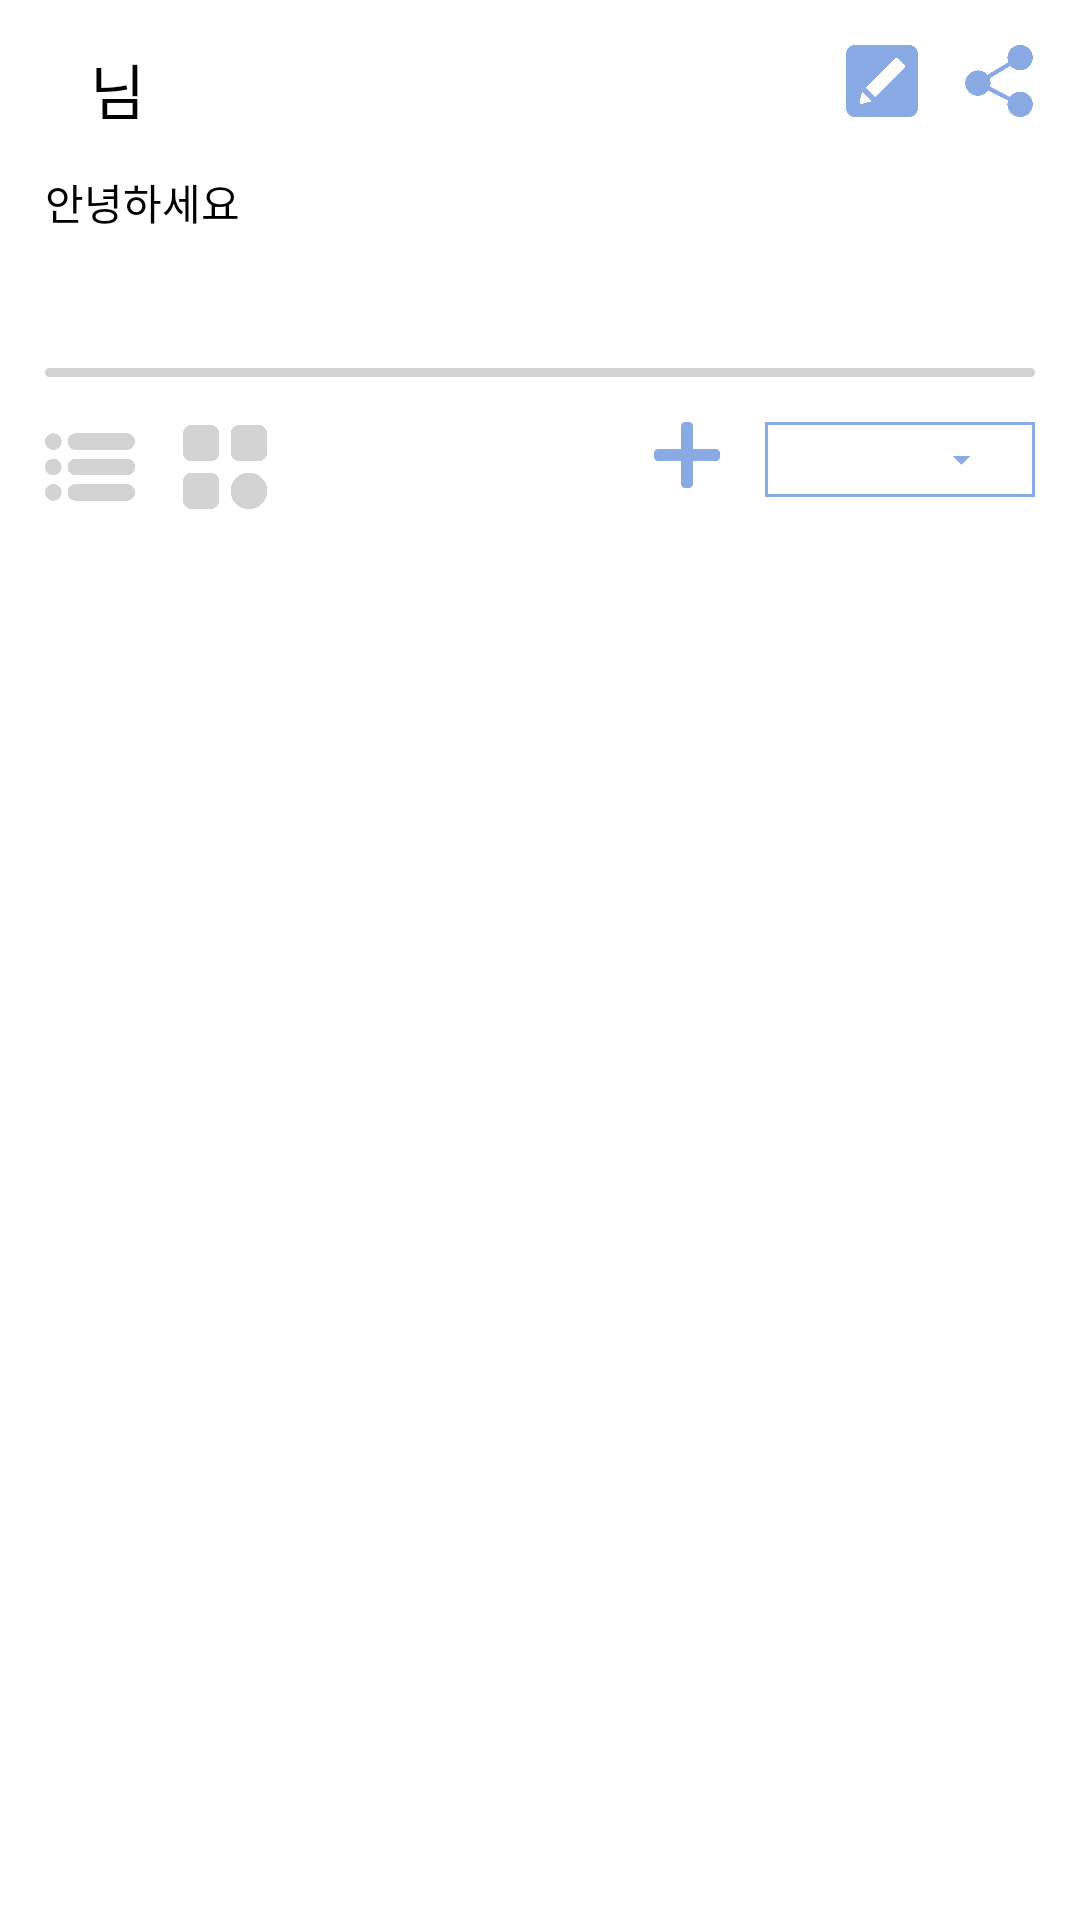

Icons on this 1080x1920 Android screen, each with its box as (x1, y1, x2, y2):
edit: (846, 45, 918, 117)
list: (45, 433, 135, 501)
plus: (654, 422, 720, 488)
share: (965, 45, 1033, 117)
